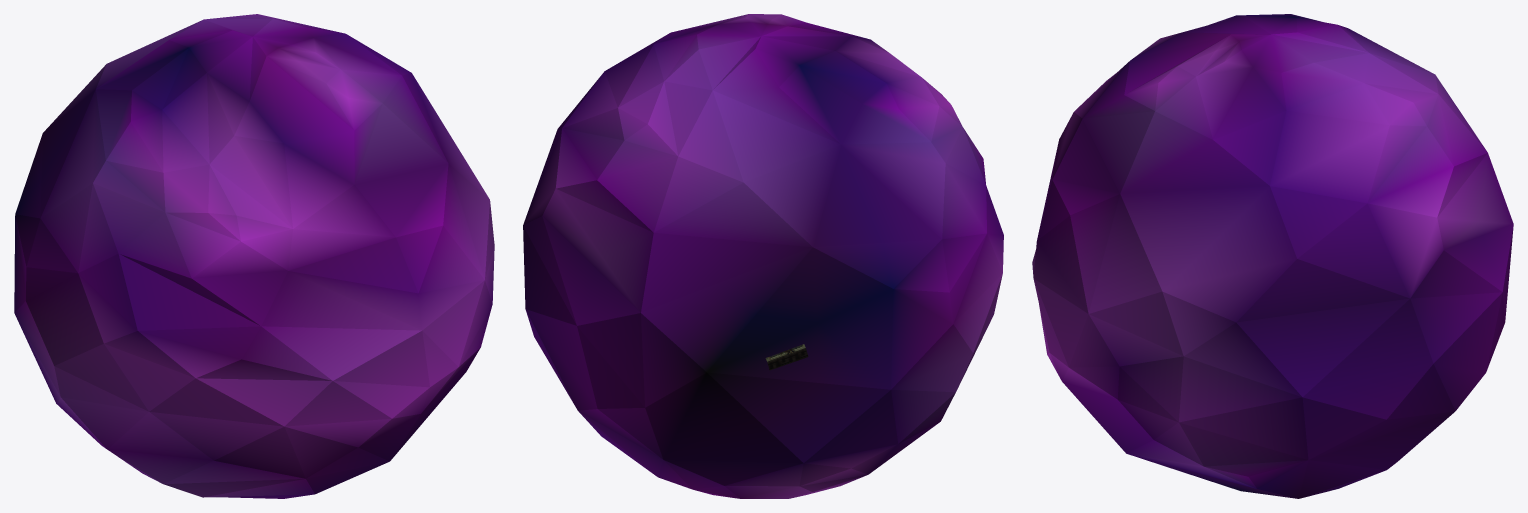
The picture shows the model from 3 angles, left to right: view 1: azimuth 30°, elevation 25°; view 2: azimuth 150°, elevation 25°; view 3: azimuth 270°, elevation 25°; orthographic projection.
Parts seen in each view (by area): view 1: part3; view 2: part3, part1; view 3: part3.
Boxes of the visible parts, x1,y1,x2,y2 form: part3: [14, 14, 494, 498]; part3: [523, 14, 1003, 498]; part1: [765, 344, 808, 370]; part3: [1032, 14, 1513, 498].
Size of the model in its own units: 12.82 by 13.03 by 12.81.
34 materials, 32 textured.
